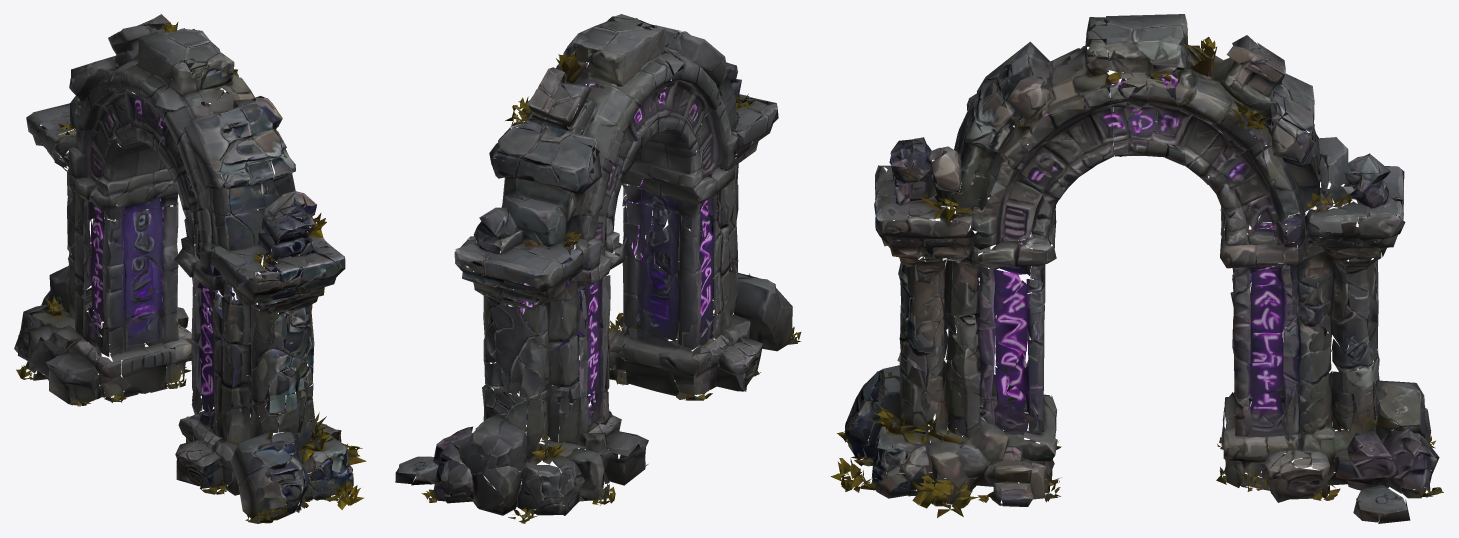
Rendered from TripoObsidianRuin.fbx.
3 renders of one model, left to right at view 1: azimuth 30°, elevation 25°; view 2: azimuth 150°, elevation 25°; view 3: azimuth 270°, elevation 25°, orthographic. The views are drawn at different scales.
Parts seen in each view (by area): view 1: TripoObsidianRuin; view 2: TripoObsidianRuin; view 3: TripoObsidianRuin.
Part boxes in pixels (left/top/right/bottom): TripoObsidianRuin: left=14, top=14, right=366, bottom=523; TripoObsidianRuin: left=395, top=14, right=801, bottom=523; TripoObsidianRuin: left=831, top=14, right=1443, bottom=523.
Size of the model in its own units: 2.9 by 7.1 by 5.6.
1 material, 1 textured.
